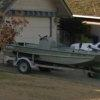Boat: (8, 34, 99, 85)
